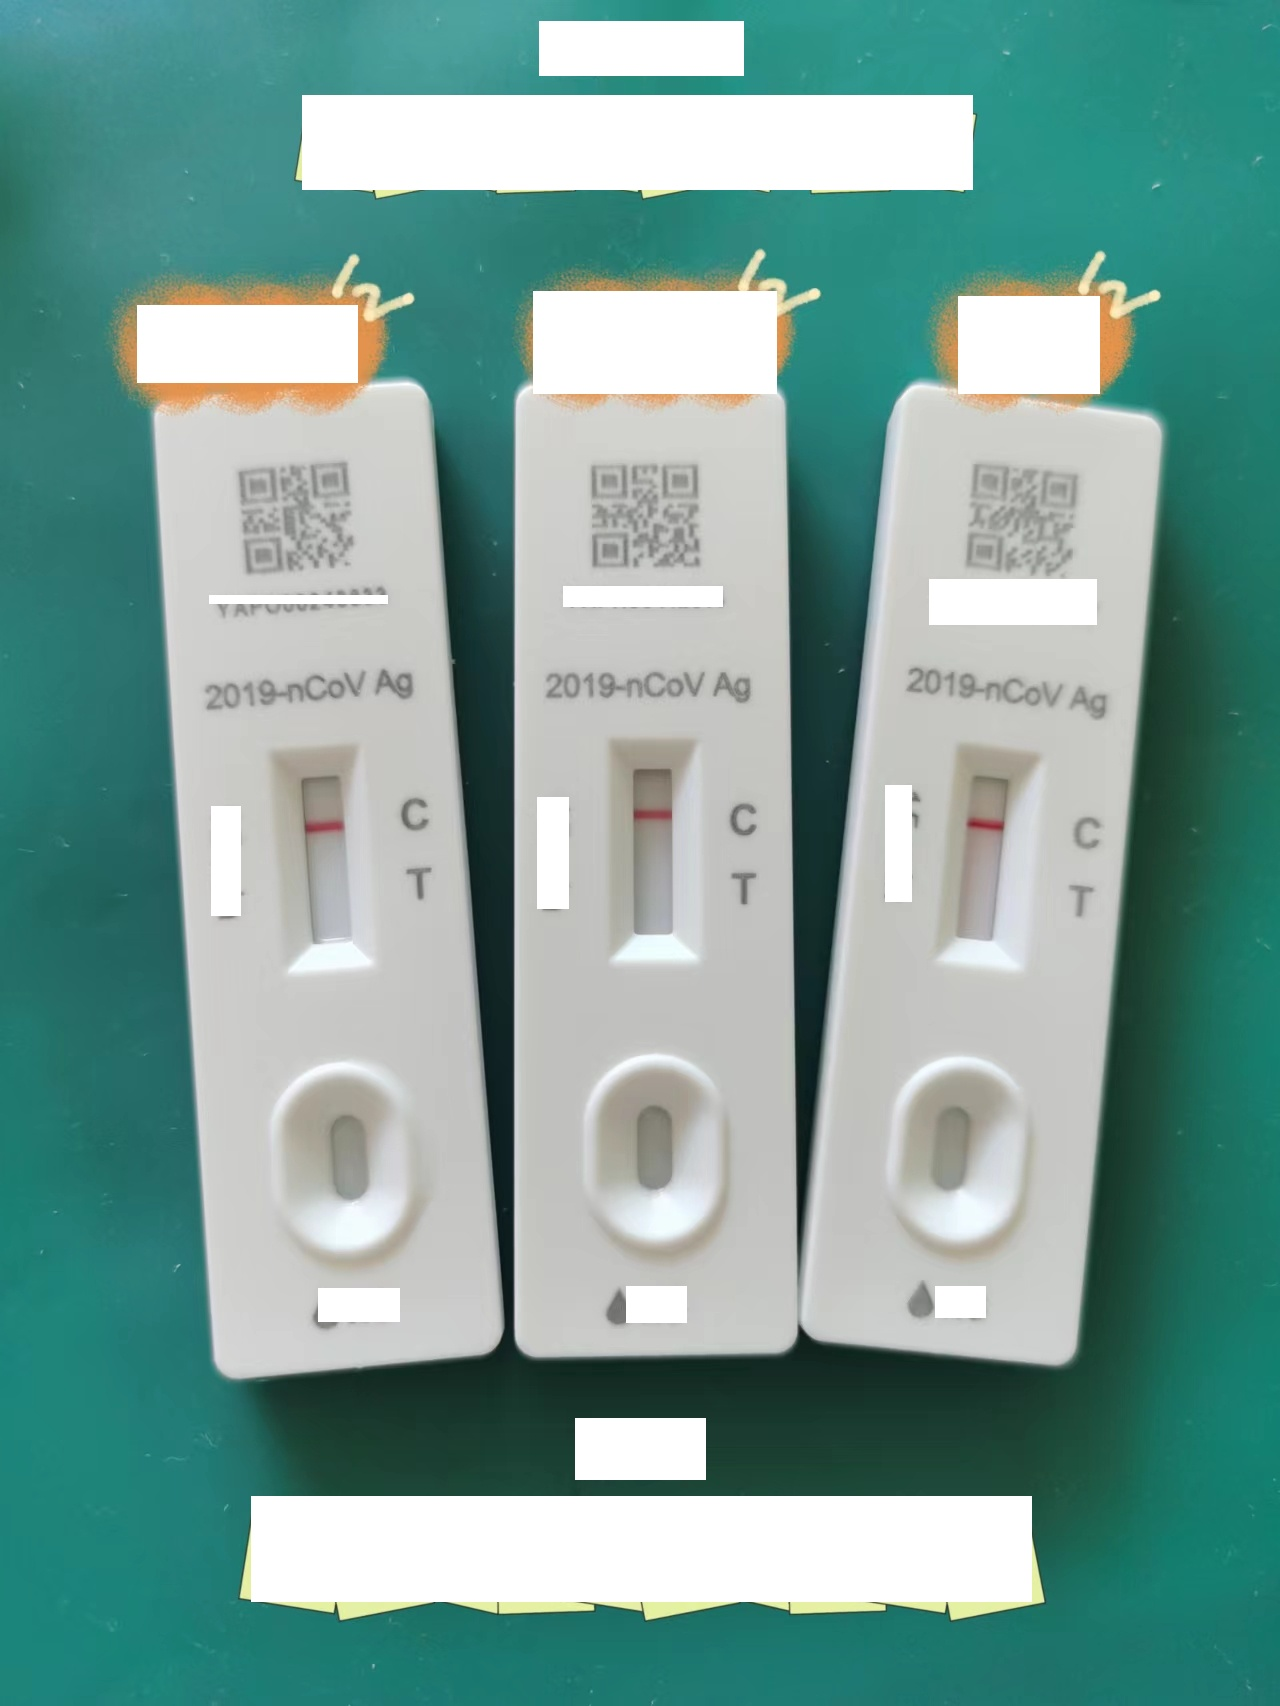negative: (938, 733, 1043, 965), (272, 747, 372, 961), (608, 734, 696, 959)
